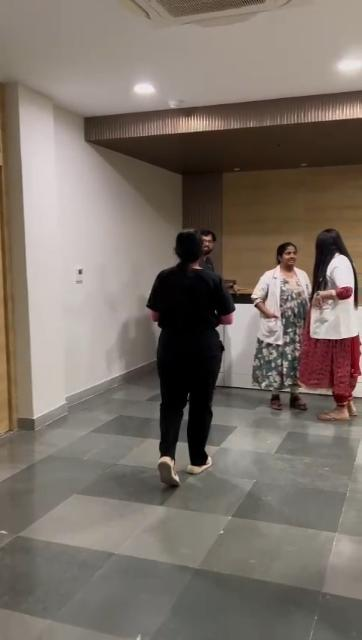floor: (0, 379, 362, 638)
moving-obj: (121, 238, 230, 492), (272, 221, 362, 421), (234, 226, 302, 428)
wall: (16, 91, 90, 413), (91, 147, 177, 387)
